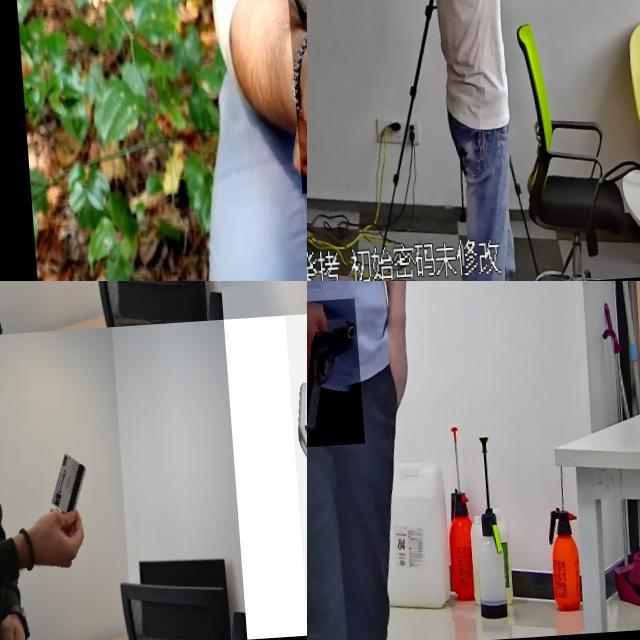gun-knife-thesis - v11 Yolov5 augmented: (307, 302, 358, 451), (570, 0, 632, 37)
